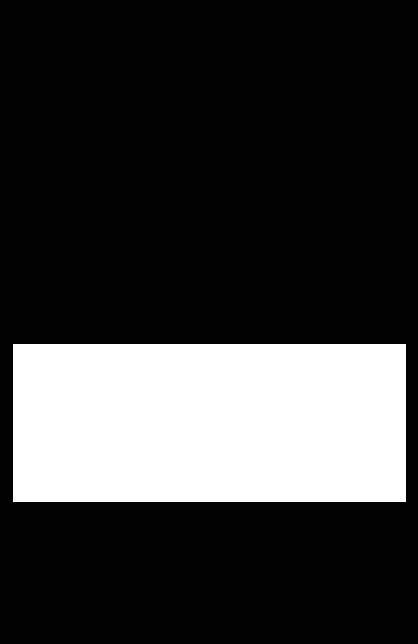table: (13, 344, 405, 501)
